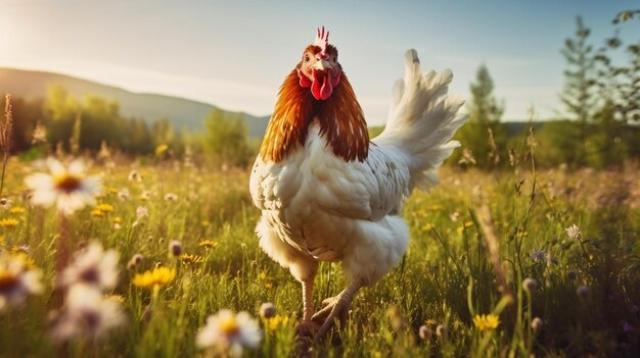Chicken: (248, 24, 471, 326)
